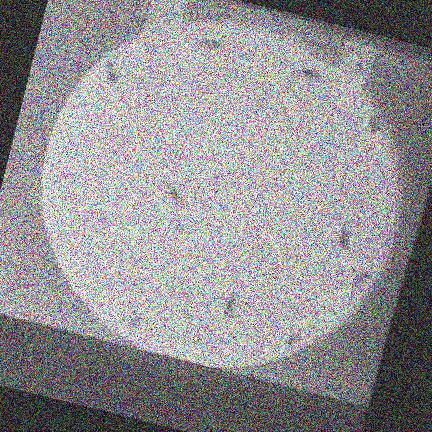fly: (165, 181, 182, 204), (224, 292, 238, 319), (298, 68, 324, 82), (352, 271, 371, 289), (105, 61, 118, 87), (197, 37, 222, 50), (127, 316, 143, 334), (339, 227, 350, 251), (286, 334, 303, 347), (369, 117, 381, 133)
